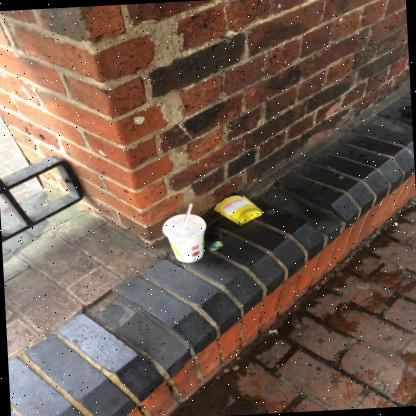Meal carton: (214, 195, 262, 226)
Other plastic: (210, 241, 223, 250)
Other plastic bottle: (269, 330, 277, 334)
Paper cup: (162, 214, 206, 262)
Plastic lid: (162, 213, 206, 239)
Plastic straw: (182, 203, 192, 225)
